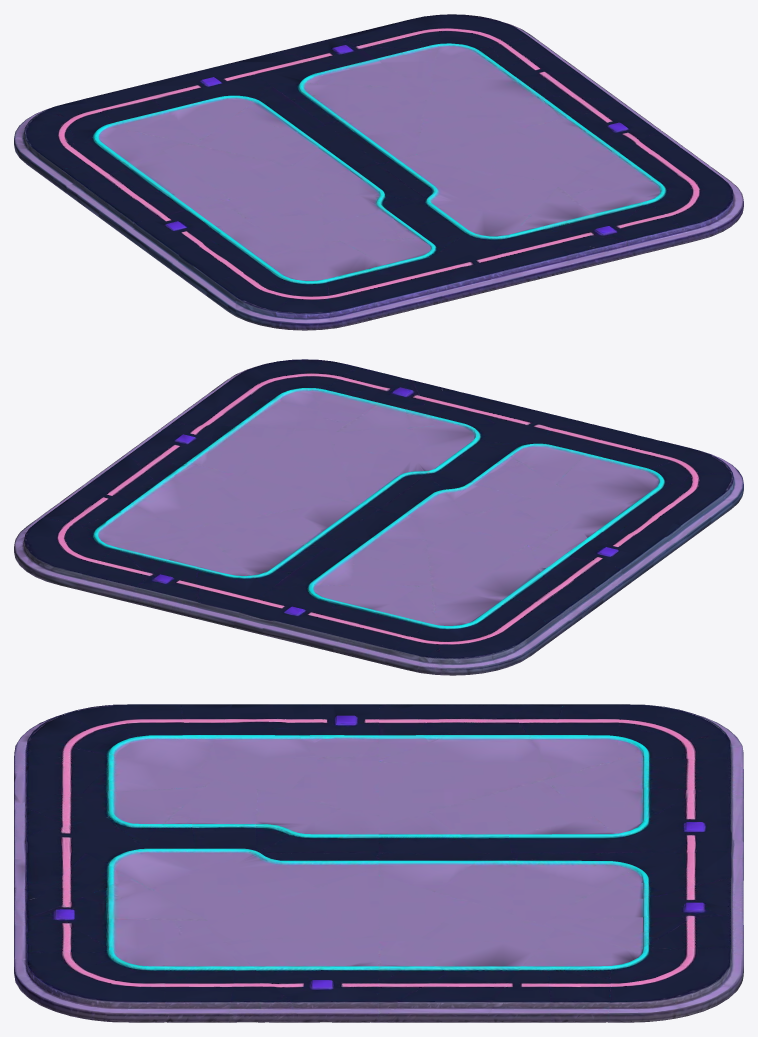
Rendered from street-simple.glb.
3 renders of one model, top to bottom at view 1: azimuth 30°, elevation 25°; view 2: azimuth 150°, elevation 25°; view 3: azimuth 270°, elevation 25°, orthographic. The views are drawn at different scales.
Parts seen in each view (by area): view 1: mesh_node; view 2: mesh_node; view 3: mesh_node.
Part boxes in pixels (x1=…): mesh_node: x1=14, y1=14, x2=743, y2=330; mesh_node: x1=14, y1=359, x2=743, y2=675; mesh_node: x1=14, y1=704, x2=743, y2=1022.
Bounding box in the file's own units: 62374 × 1637 × 62374.
Materials: 1 (1 with a texture image).
